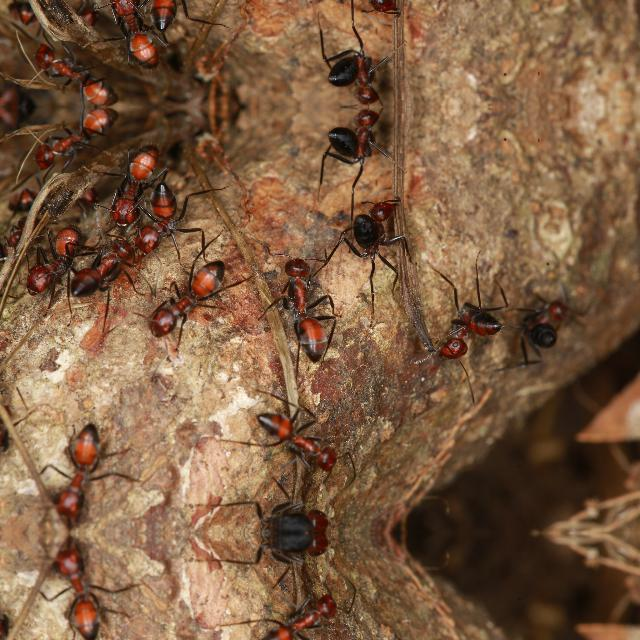Colobopsis: (24, 419, 126, 527), (256, 244, 340, 370), (24, 538, 124, 640), (136, 253, 242, 343), (238, 395, 352, 473), (94, 140, 178, 232), (15, 106, 123, 176), (15, 36, 123, 106), (327, 186, 418, 264), (136, 166, 207, 254), (63, 232, 149, 304), (308, 108, 398, 174), (308, 38, 398, 104), (94, 0, 176, 72), (218, 488, 349, 532), (417, 298, 497, 370), (16, 220, 90, 296), (218, 534, 349, 576), (238, 592, 352, 640), (516, 288, 588, 354), (134, 0, 206, 46), (325, 0, 416, 24), (4, 176, 64, 210), (4, 2, 64, 36)
